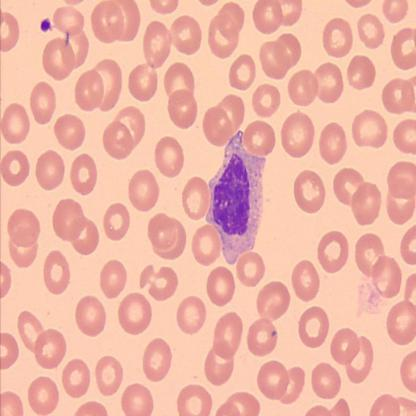Myelocyte: (206, 129, 266, 262)
